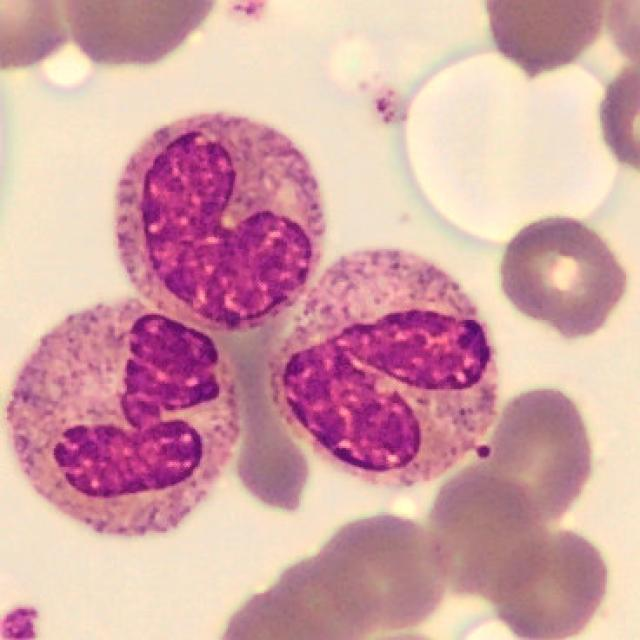Bastonete: (263, 249, 501, 492)
Metamielocito: (108, 110, 327, 334)
Neutrofilo segmentado: (7, 298, 238, 543)
